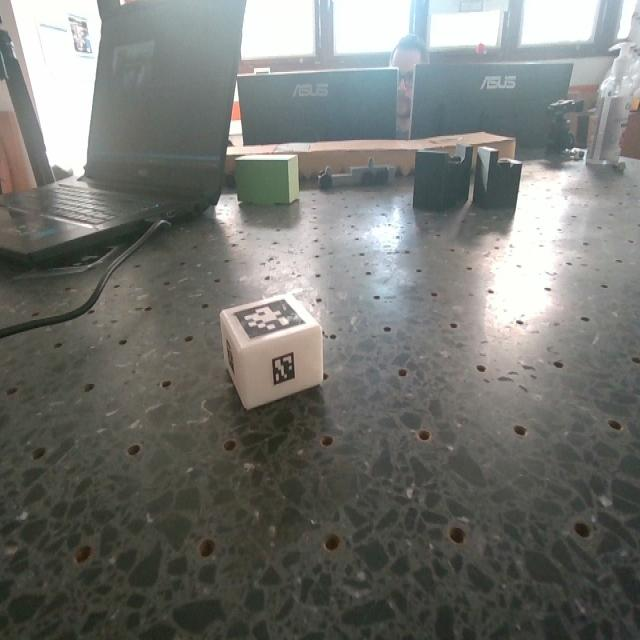Cube: (220, 291, 321, 409)
